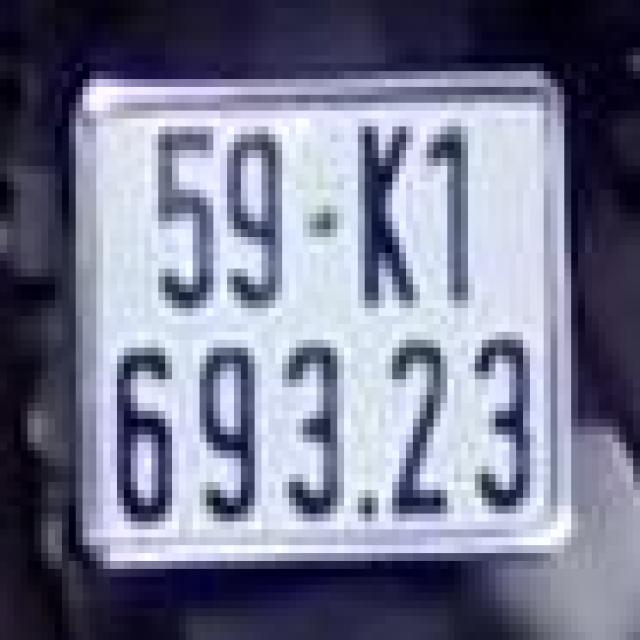1: (430, 103, 485, 308)
2: (379, 332, 454, 521)
3: (275, 324, 351, 529), (465, 328, 540, 525)
5: (141, 111, 224, 316)
6: (100, 336, 182, 525)
9: (220, 111, 296, 324), (196, 332, 265, 521)
K: (344, 95, 420, 316)
